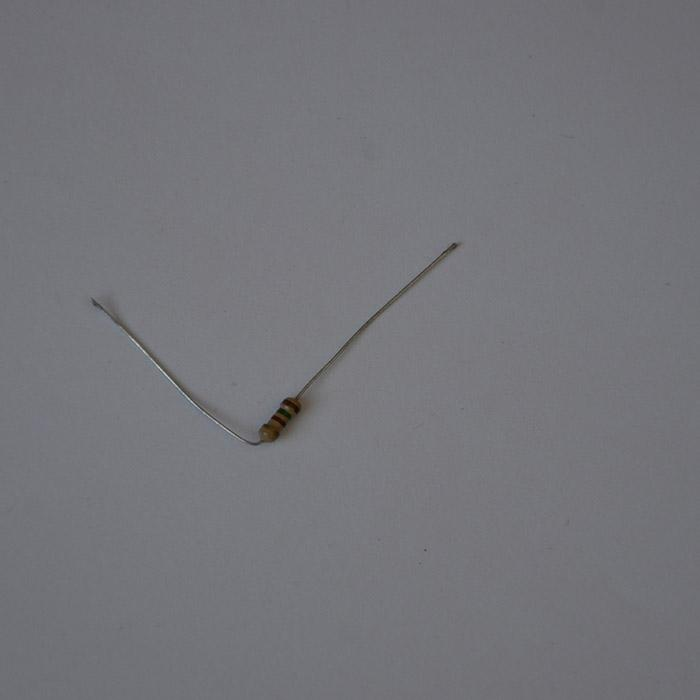resistor: (258, 396, 301, 443)
